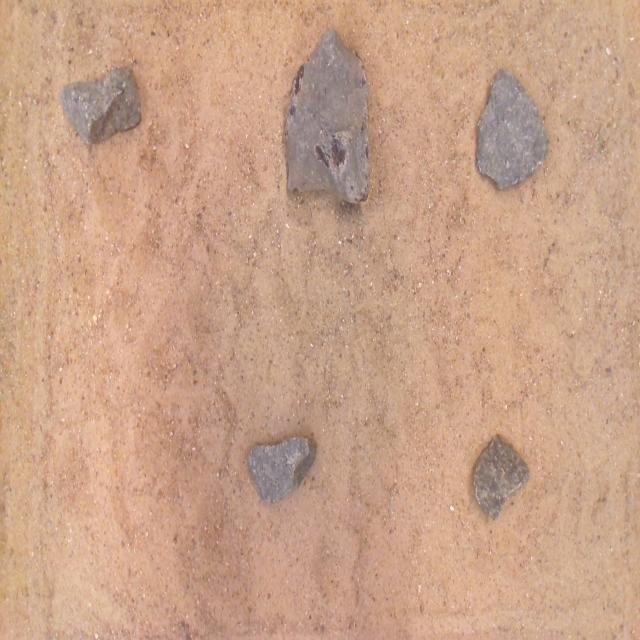rock: (285, 30, 369, 201), (477, 69, 547, 188), (61, 68, 140, 143), (473, 436, 529, 519), (247, 437, 315, 503)
